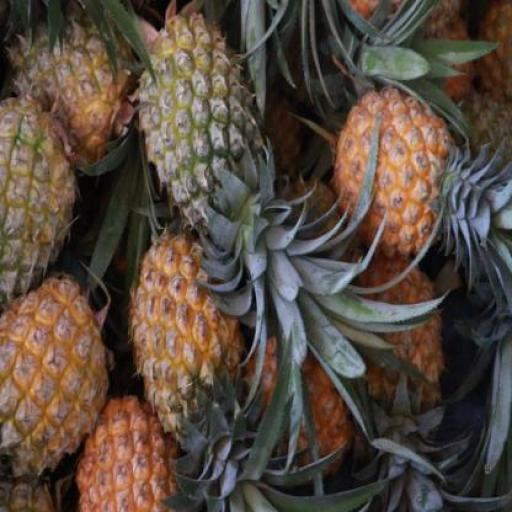------------------------------: (137, 6, 268, 228), (12, 1, 132, 159), (0, 96, 79, 283)
Pineapple - v8 v1: (130, 237, 247, 435), (329, 89, 450, 274), (0, 269, 108, 464), (76, 391, 187, 512)
